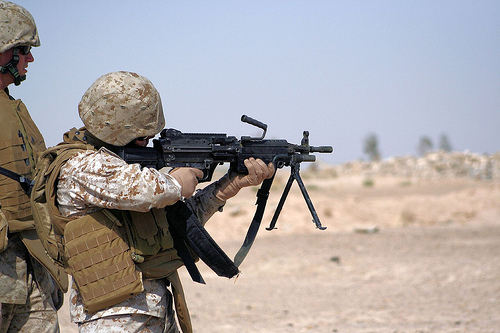rifle: (193, 121, 345, 170)
rifle in hand: (144, 111, 340, 279)
